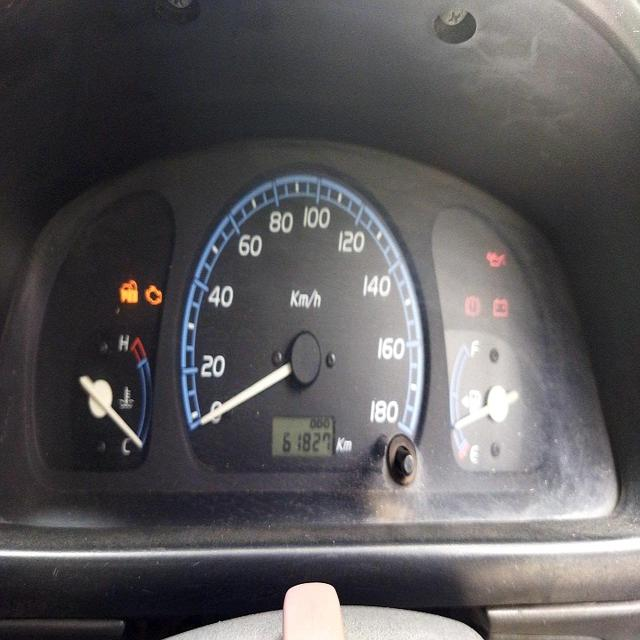odometer: (280, 425, 333, 457)
